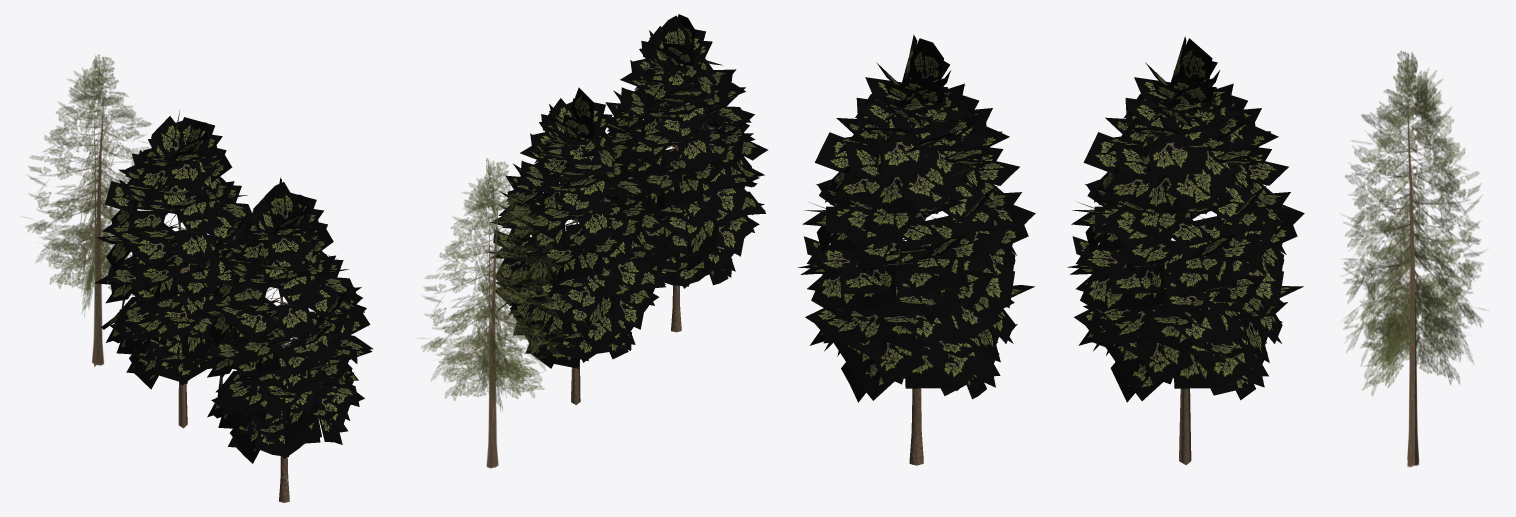
File: tree_with_lod.glb
The picture shows the model from 3 angles, left to right: view 1: azimuth 30°, elevation 25°; view 2: azimuth 150°, elevation 25°; view 3: azimuth 270°, elevation 25°; orthographic projection. The views are drawn at different scales.
Parts seen in each view (by area): view 1: Paine tree 1 - high_1, Paine tree 1 - low_0, lod last_2; view 2: Paine tree 1 - low_0, Paine tree 1 - high_1, lod last_2; view 3: Paine tree 1 - low_0, Paine tree 1 - high_1, lod last_2.
Boxes of the visible parts, x1,y1,x2,y2 form: Paine tree 1 - high_1: [196, 177, 372, 502]; Paine tree 1 - low_0: [94, 111, 254, 428]; lod last_2: [25, 54, 151, 366]; Paine tree 1 - low_0: [488, 87, 667, 404]; Paine tree 1 - high_1: [605, 14, 767, 332]; lod last_2: [420, 158, 563, 468]; Paine tree 1 - low_0: [1067, 36, 1304, 465]; Paine tree 1 - high_1: [797, 34, 1035, 465]; lod last_2: [1343, 50, 1484, 467].
Bounding box in the file's own units: 26.79 × 53.6 × 79.83.
Materials: 3 (3 with a texture image).
